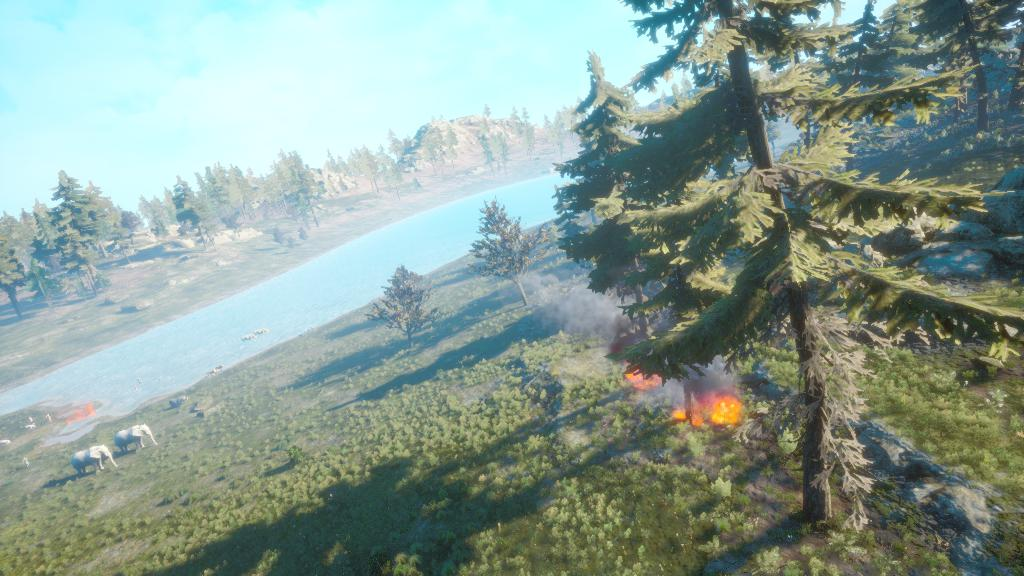Fire: (679, 387, 752, 446), (615, 358, 663, 401), (56, 400, 98, 431)
elephant: (67, 440, 117, 485), (114, 422, 154, 461)
hippopotamus: (166, 395, 189, 410)
human: (21, 455, 31, 469), (25, 413, 34, 426), (131, 383, 139, 395), (45, 412, 53, 422), (133, 377, 142, 385), (155, 373, 161, 383)
lion: (203, 368, 219, 380), (212, 364, 225, 373)
pig: (23, 423, 37, 431), (0, 439, 14, 447)
rhinoceros: (252, 327, 272, 339), (239, 333, 259, 344)
smoke: (527, 279, 637, 359), (659, 353, 744, 400)
